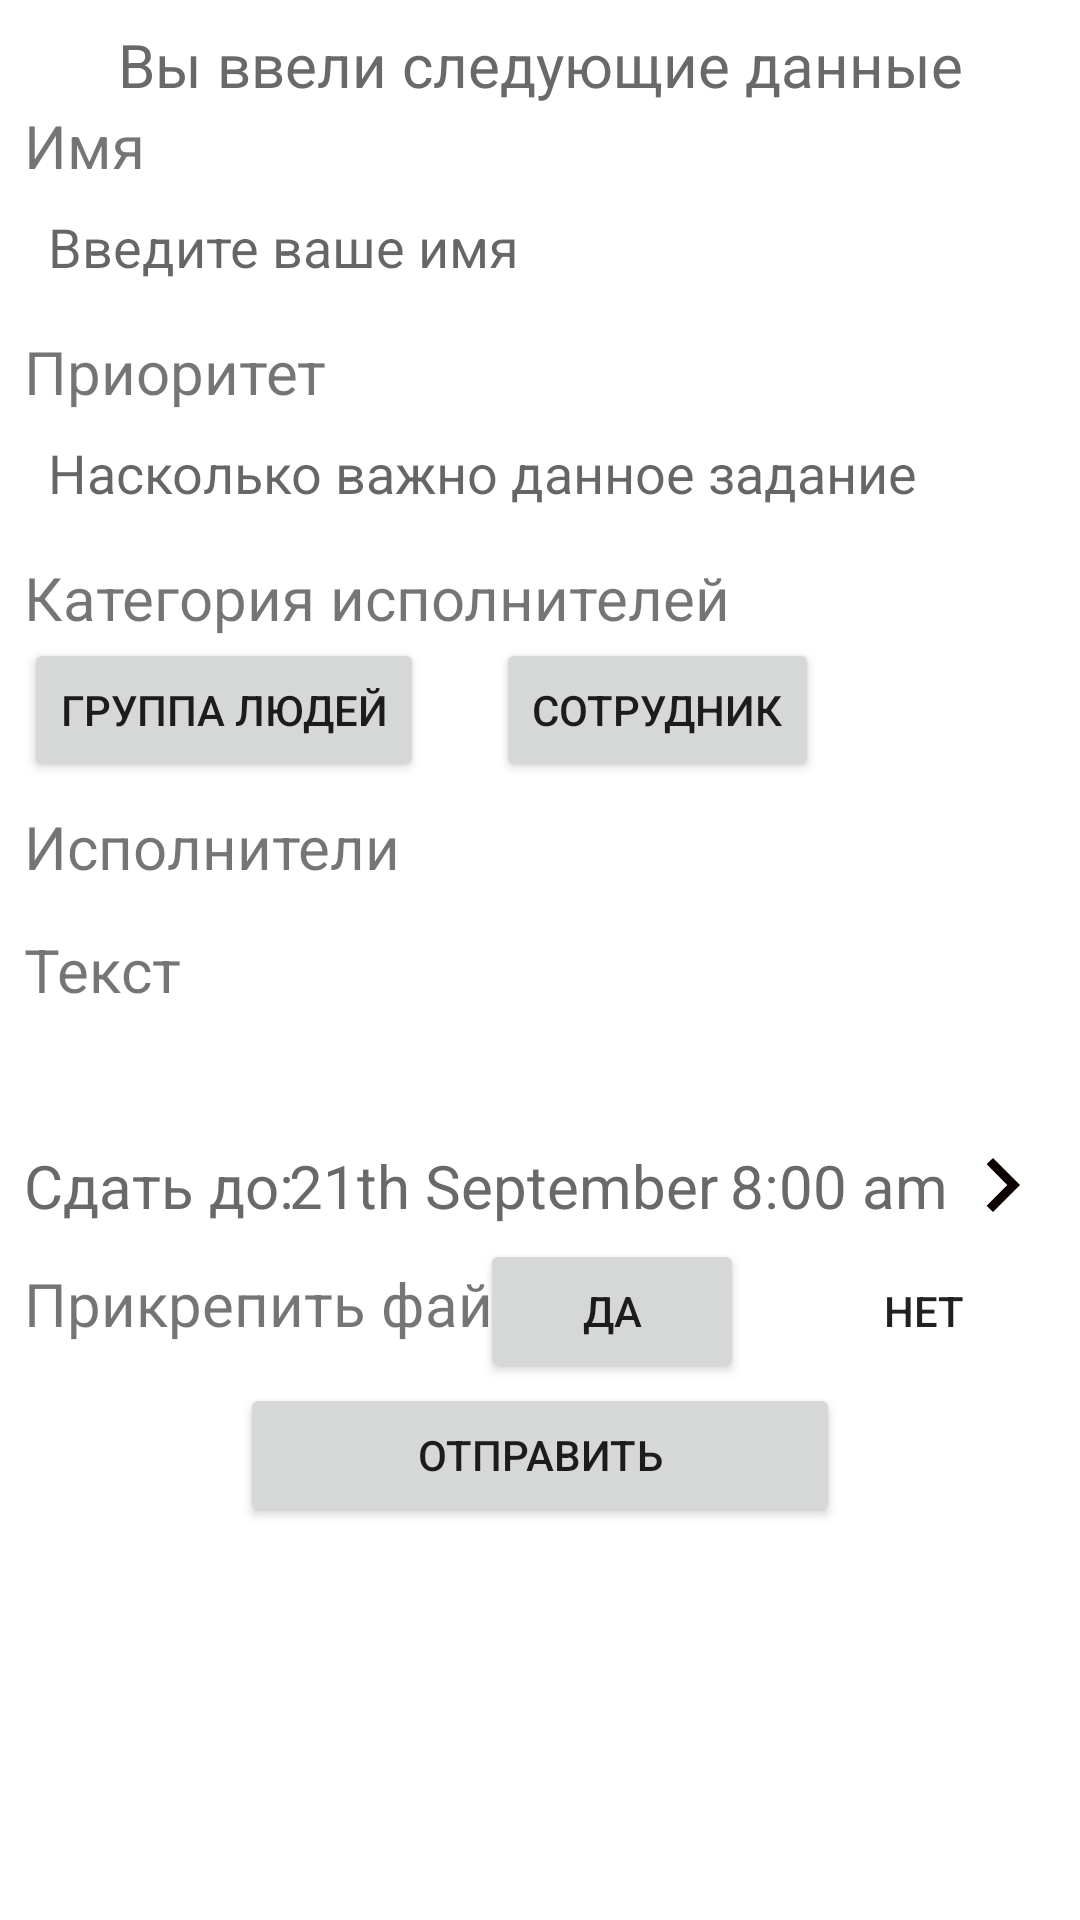

Point at icon controls on the screen. Image size 1080*1920, points as point (x, y).
keyboard arrow right: point (1003, 1185)
